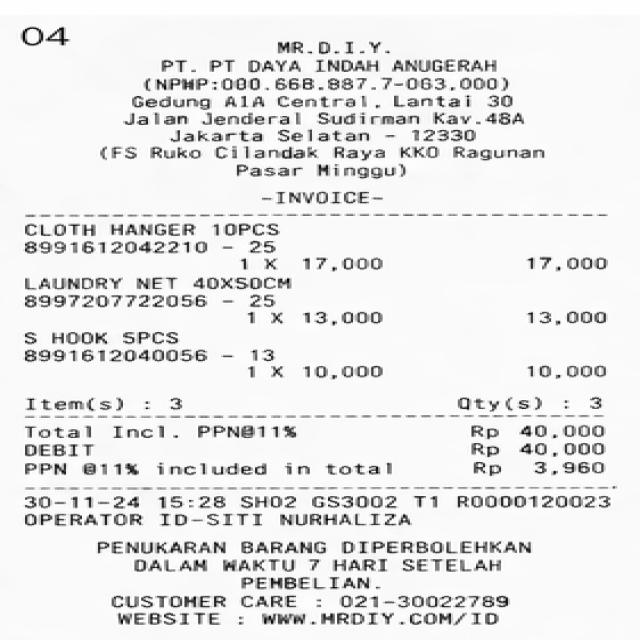date: (23, 494, 233, 511)
store: (269, 38, 401, 59)
total: (16, 420, 616, 440)
